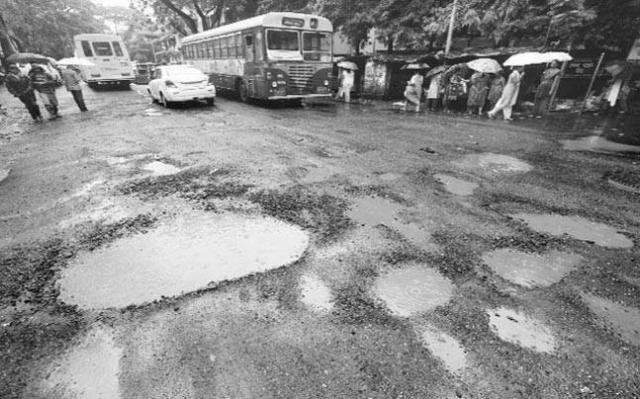Pothole: (62, 210, 306, 312), (368, 260, 476, 382), (492, 190, 640, 268), (45, 322, 150, 399), (341, 189, 444, 255), (476, 235, 586, 288), (476, 306, 568, 360), (572, 286, 640, 356), (558, 124, 640, 172), (458, 146, 540, 180), (424, 162, 484, 202), (275, 148, 339, 184), (129, 152, 189, 180), (602, 171, 640, 203), (372, 164, 410, 186)
